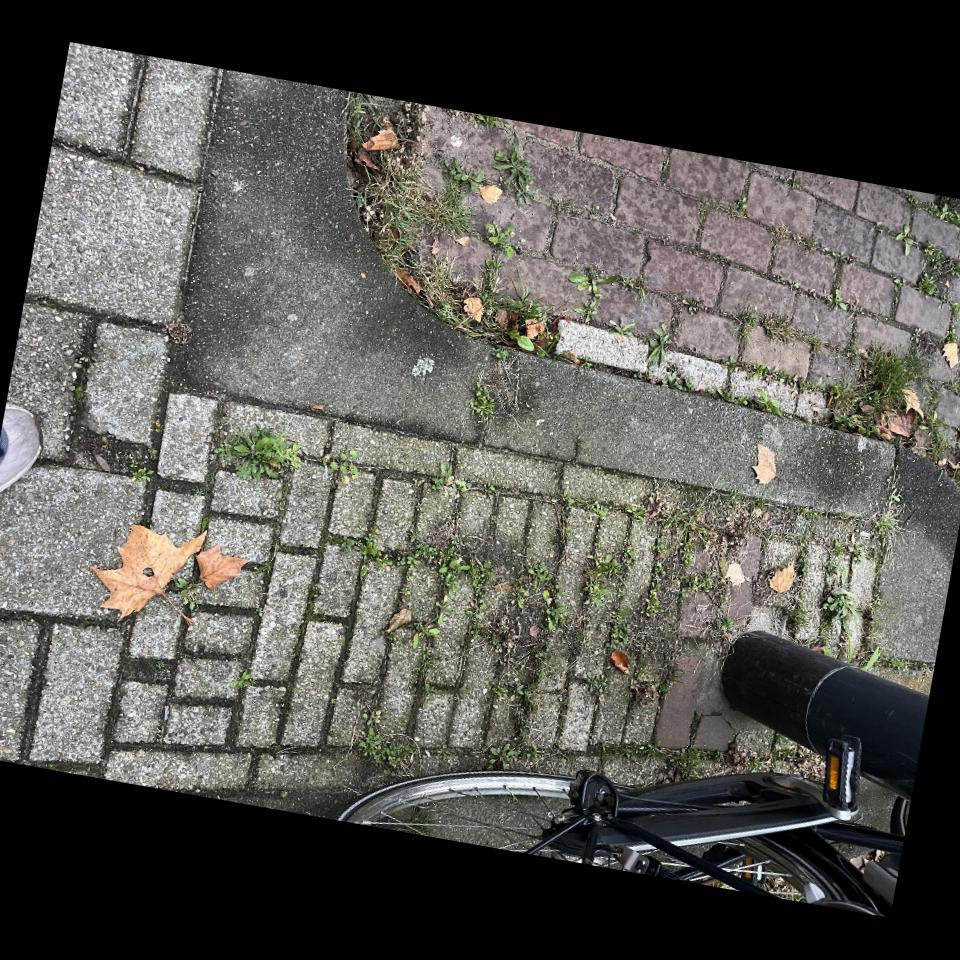weed: (355, 150, 557, 356), (338, 527, 493, 636), (831, 344, 925, 435), (216, 426, 301, 481), (358, 711, 414, 775), (514, 562, 564, 631), (495, 135, 533, 203), (917, 241, 960, 295), (653, 748, 721, 781), (918, 203, 960, 255), (568, 267, 621, 299), (445, 159, 486, 193), (345, 91, 370, 142), (643, 561, 664, 617), (324, 450, 358, 484), (683, 572, 721, 597), (489, 743, 519, 770), (896, 224, 915, 256), (470, 113, 502, 128), (682, 538, 694, 568), (521, 747, 541, 763), (656, 544, 665, 552)
